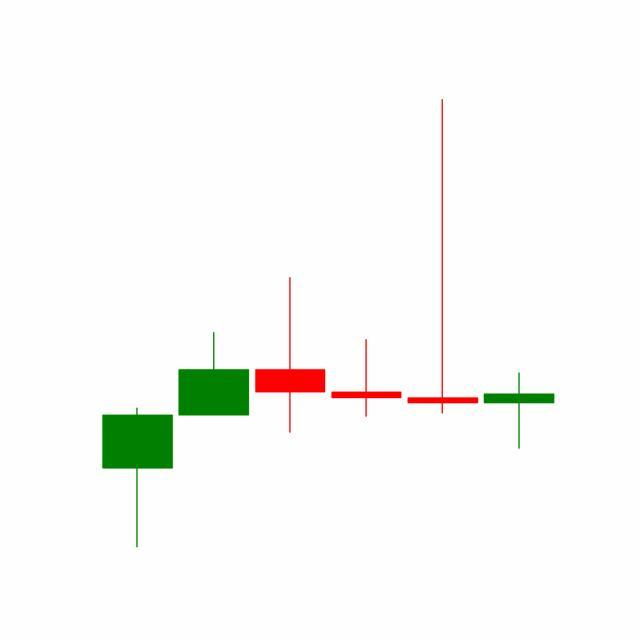Spinning Top: (404, 96, 482, 418)
